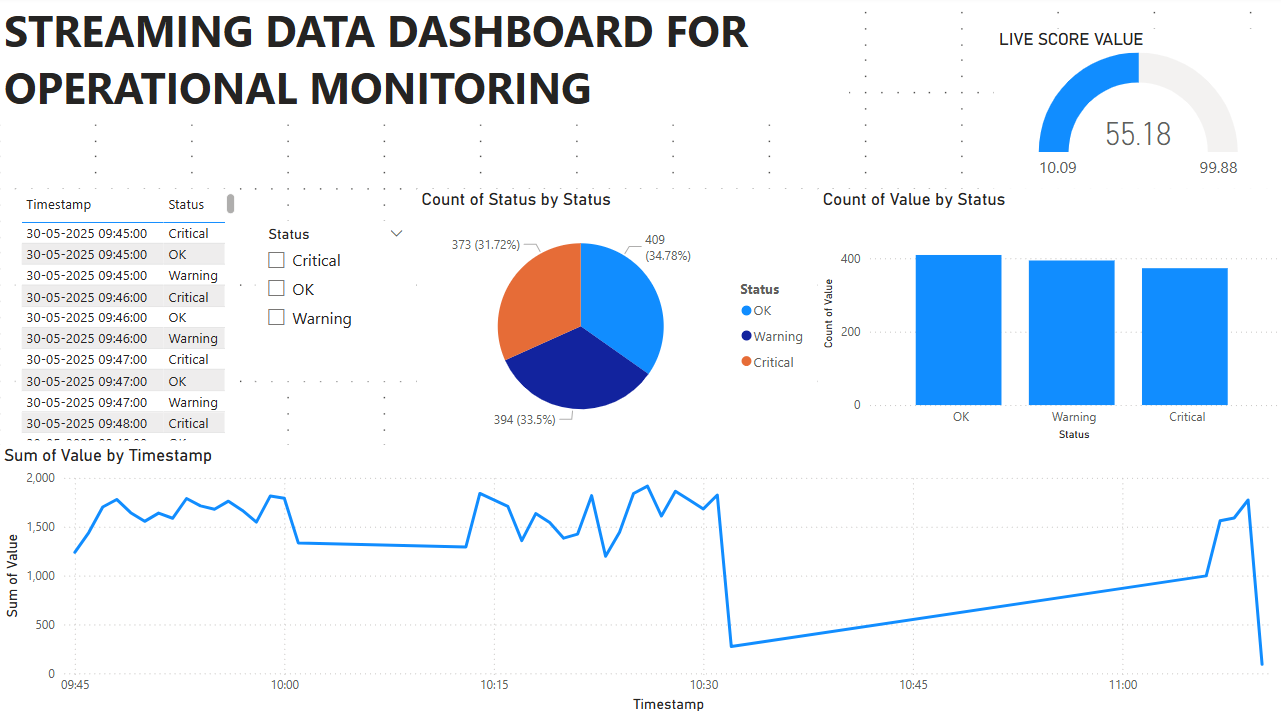

What the dashboard file says about the page in this screenshot:
{"tool":"powerbi","page":{"name":"Page 1","canvas":[1280,720],"ordinal":0},"visuals":[{"type":"lineChart","fields":{"Category":["realtime_data (2).Timestamp"],"Y":["Sum(realtime_data (2).Value)"]},"box":[0,448,1280,272],"z":0},{"type":"clusteredColumnChart","fields":{"Category":["realtime_data (2).Status"],"Y":["CountNonNull(realtime_data (2).Value)"]},"box":[816,192,464,256],"z":1000},{"type":"pieChart","fields":{"Category":["realtime_data (2).Status"],"Y":["CountNonNull(realtime_data (2).Status)"]},"box":[416,192,400,256],"z":2000},{"type":"gauge","title":"LIVE SCORE VALUE","fields":{"Y":["Avg(realtime_data (2).Value)"],"MaxValue":["Max(realtime_data (2).Value)1"],"MinValue":["Min(realtime_data (2).Value)2"]},"box":[992,32,288,160],"z":3000},{"type":"tableEx","fields":{"Values":["realtime_data (2).Timestamp","realtime_data (2).Status"]},"box":[16,192,224,256],"z":4000},{"type":"slicer","fields":{"Values":["realtime_data (2).Status"]},"box":[256,224,160,160],"z":5000},{"type":"textbox","box":[0,0,848,128],"z":6000}]}

Visuals, with their boxes in screenshot pixels (x1, y1, x2, y2), scaled from the page's 1280x720 canvas onto the 1281x712 screenshot:
lineChart - realtime_data (2).Timestamp x Sum(realtime_data (2).Value): [x1=0, y1=443, x2=1280, y2=711]
clusteredColumnChart - realtime_data (2).Status x CountNonNull(realtime_data (2).Value): [x1=817, y1=190, x2=1280, y2=443]
pieChart - realtime_data (2).Status x CountNonNull(realtime_data (2).Status): [x1=416, y1=190, x2=817, y2=443]
"LIVE SCORE VALUE" gauge: [x1=993, y1=32, x2=1280, y2=190]
tableEx - realtime_data (2).Timestamp x realtime_data (2).Status: [x1=16, y1=190, x2=240, y2=443]
slicer - realtime_data (2).Status: [x1=256, y1=222, x2=416, y2=380]
textbox: [x1=0, y1=0, x2=849, y2=127]
